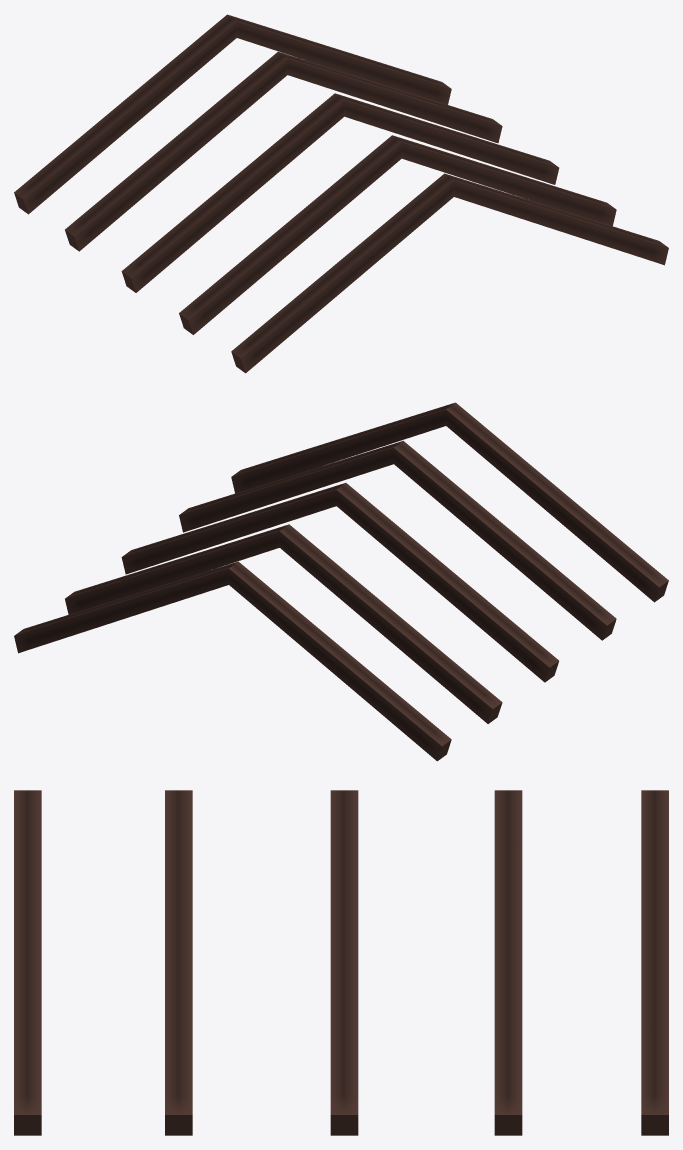
Rendered from roof_beam_v7b001.fbx.
The picture shows the model from 3 angles, top to bottom: view 1: azimuth 30°, elevation 25°; view 2: azimuth 150°, elevation 25°; view 3: azimuth 270°, elevation 25°; orthographic projection. The views are drawn at different scales.
Parts seen in each view (by area): view 1: roof_beam_v7b001; view 2: roof_beam_v7b001; view 3: roof_beam_v7b001.
Part boxes in pixels (x1,y1,x2,y2): roof_beam_v7b001: (14,14,668,373); roof_beam_v7b001: (14,402,668,761); roof_beam_v7b001: (14,790,668,1135).
Bounding box in the file's own units: 691 × 219 × 634.
